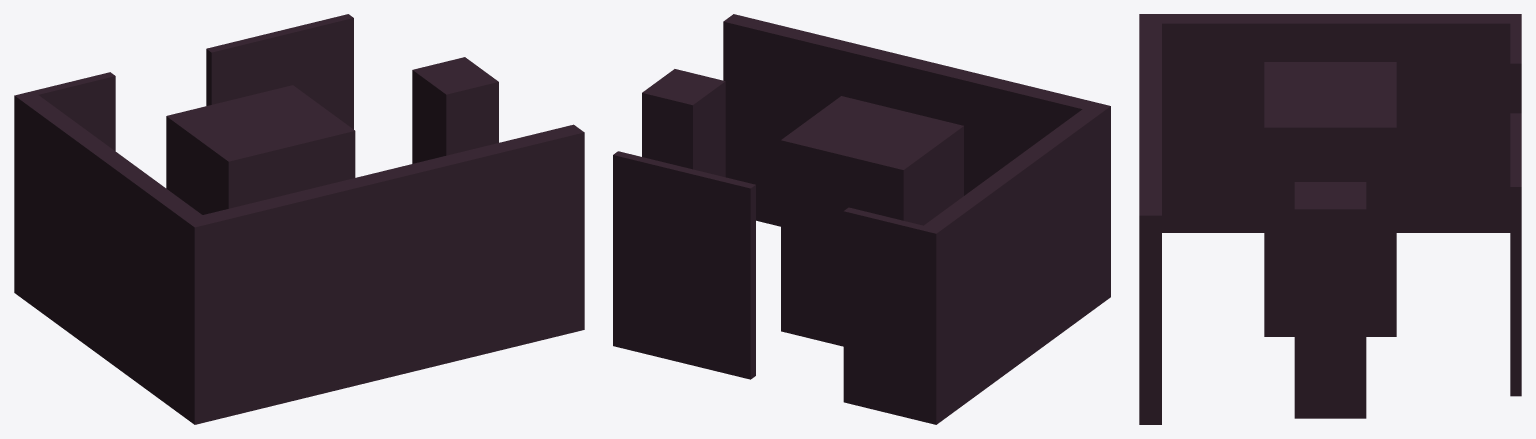
Rendered from Chanks-1.obj.
3 views of the same model, side by side, from view 1: azimuth 30°, elevation 25°; view 2: azimuth 150°, elevation 25°; view 3: azimuth 270°, elevation 25° (orthographic). The views are drawn at different scales.
Bounding box in the file's own units: 12.6 × 6.1 × 10.1.
Materials: 1 (1 with a texture image).
